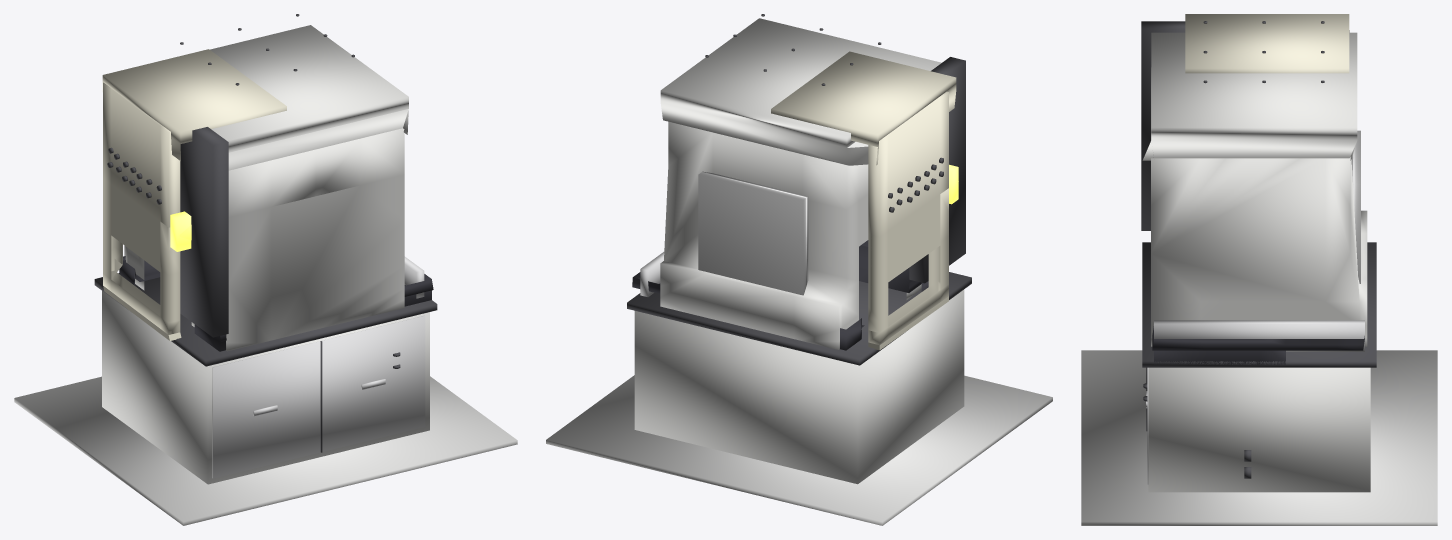
File: scaner.glb
The picture shows the model from 3 angles, left to right: view 1: azimuth 30°, elevation 25°; view 2: azimuth 150°, elevation 25°; view 3: azimuth 270°, elevation 25°; orthographic projection. The views are drawn at different scales.
Parts seen in each view (by area): view 1: Optical_Tower, Base_Seam, Floor, Tower_TopCap, Base_Cabinet, Cream_Panel_Side, Cream_Panel_Top, Inner_Frame, Mid_Rail, Stage_Slab, Arrow_Body; view 2: Base_Cabinet, Optical_Tower, Floor, Tower_TopCap, Cream_Panel_Side, Cube.001, Cream_Panel_Top, Mid_Rail, Inner_Frame, Stage_Slab, Stage_Rail_0.54; view 3: Optical_Tower, Floor, Base_Cabinet, Tower_TopCap, Cream_Panel_Top, Mid_Rail, Stage_Slab, Stage_Rail_0.54, Inner_Frame, Cube.001.
Part boxes in pixels (bbox=[...]): Optical_Tower: bbox=[124, 128, 404, 351]; Base_Seam: bbox=[212, 315, 425, 478]; Floor: bbox=[14, 376, 517, 525]; Tower_TopCap: bbox=[210, 25, 408, 170]; Base_Cabinet: bbox=[102, 291, 429, 484]; Cream_Panel_Side: bbox=[103, 82, 181, 340]; Cream_Panel_Top: bbox=[102, 49, 286, 160]; Inner_Frame: bbox=[180, 127, 228, 337]; Mid_Rail: bbox=[94, 273, 437, 366]; Stage_Slab: bbox=[119, 256, 433, 351]; Arrow_Body: bbox=[170, 211, 191, 251]; Base_Cabinet: bbox=[634, 289, 964, 484]; Optical_Tower: bbox=[660, 121, 921, 349]; Floor: bbox=[546, 375, 1052, 525]; Tower_TopCap: bbox=[660, 18, 941, 165]; Cream_Panel_Side: bbox=[868, 91, 948, 350]; Cube.001: bbox=[698, 171, 808, 295]; Cream_Panel_Top: bbox=[771, 51, 956, 165]; Mid_Rail: bbox=[627, 272, 971, 365]; Inner_Frame: bbox=[909, 57, 965, 283]; Stage_Slab: bbox=[632, 240, 928, 350]; Stage_Rail_0.54: bbox=[640, 252, 664, 296]; Optical_Tower: bbox=[1151, 67, 1367, 346]; Floor: bbox=[1081, 350, 1437, 525]; Base_Cabinet: bbox=[1148, 367, 1370, 492]; Tower_TopCap: bbox=[1142, 32, 1357, 160]; Cream_Panel_Top: bbox=[1185, 14, 1349, 73]; Mid_Rail: bbox=[1142, 242, 1376, 367]; Stage_Slab: bbox=[1152, 326, 1364, 364]; Stage_Rail_0.54: bbox=[1154, 320, 1364, 351]; Inner_Frame: bbox=[1141, 21, 1185, 230]; Cube.001: bbox=[1351, 130, 1360, 283].
Bounding box in the file's own units: 1.73 × 1.91 × 1.52.
